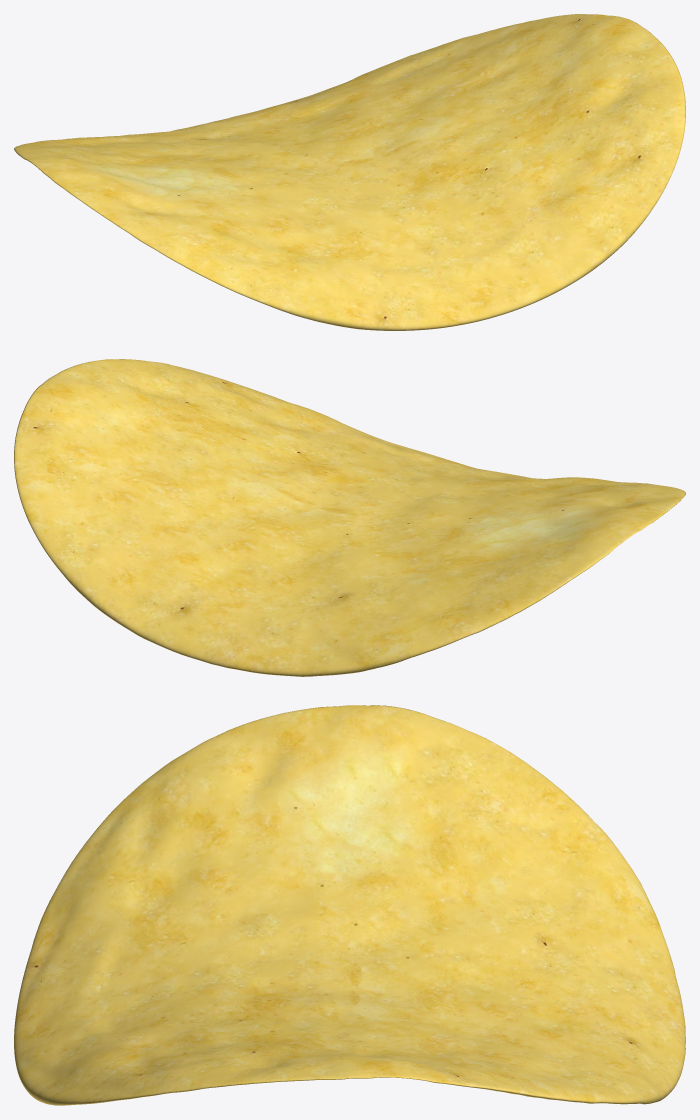
File: Corn Chip.fbx
3 renders of one model, top to bottom at view 1: azimuth 30°, elevation 25°; view 2: azimuth 150°, elevation 25°; view 3: azimuth 270°, elevation 25°, orthographic. The views are drawn at different scales.
Parts seen in each view (by area): view 1: Chip; view 2: Chip; view 3: Chip.
Boxes of the visible parts, x1,y1,x2,y2 form: Chip: [14, 14, 685, 330]; Chip: [14, 359, 685, 676]; Chip: [14, 705, 685, 1105].
Size of the model in its own units: 2.38 by 0.461 by 1.81.
1 material, 1 textured.
